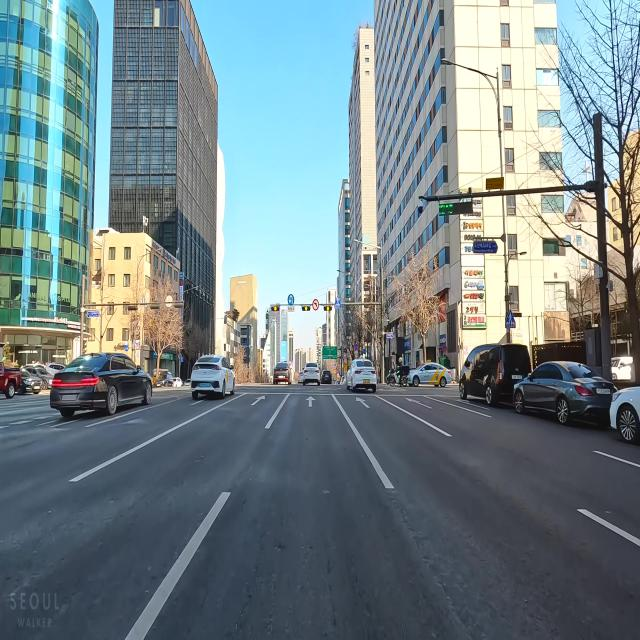Yellow Light: (304, 306, 308, 310), (274, 306, 277, 310), (327, 306, 329, 311)
